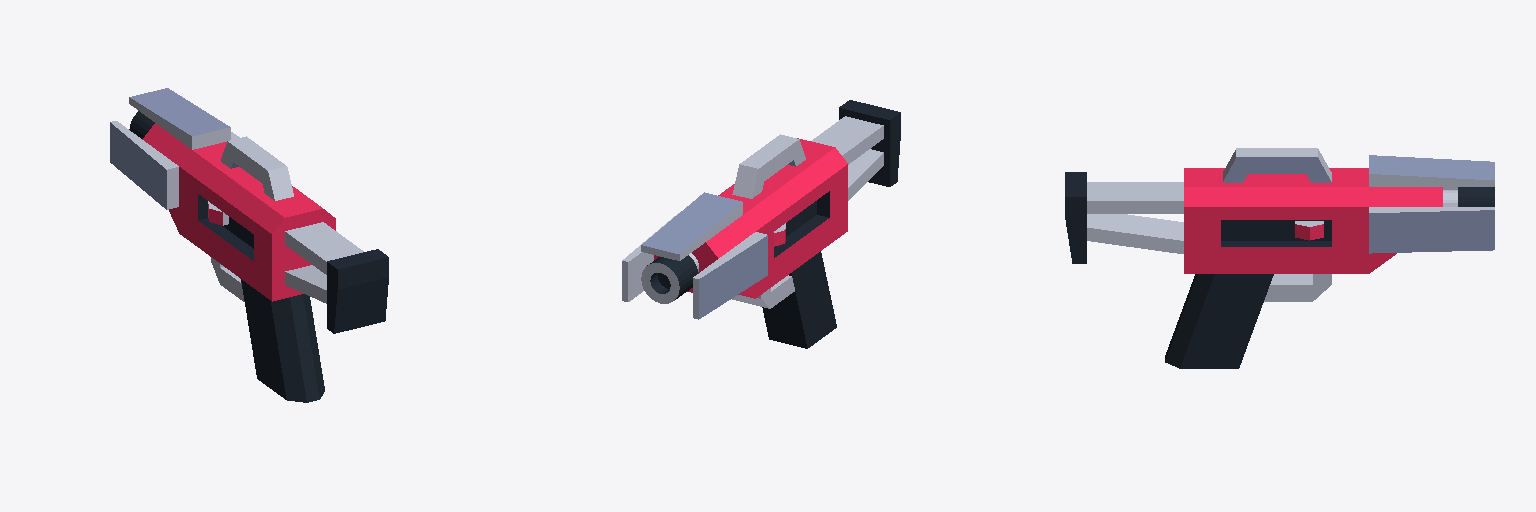
The model's file is blasterN.obj.
3 renders of one model, left to right at view 1: azimuth 30°, elevation 25°; view 2: azimuth 150°, elevation 25°; view 3: azimuth 270°, elevation 25°, orthographic.
Visible parts, largest first — view 1: blasterN; view 2: blasterN; view 3: blasterN.
Boxes of the visible parts, box(x1,y1,x2,y2) form: blasterN: box(110, 88, 388, 402); blasterN: box(622, 100, 900, 348); blasterN: box(1065, 148, 1494, 368).
Size of the model in its own units: 0.14 by 0.3075 by 0.58.